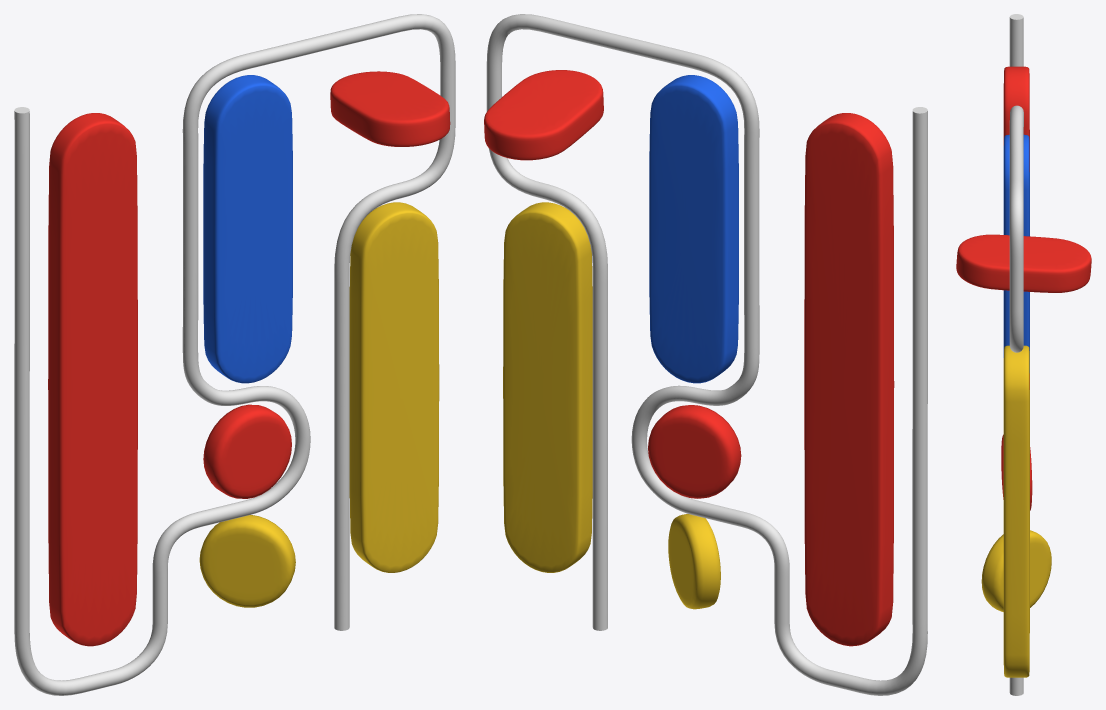
3 views of the same model, side by side, from view 1: azimuth 30°, elevation 25°; view 2: azimuth 150°, elevation 25°; view 3: azimuth 270°, elevation 25° (orthographic). The views are drawn at different scales.
Visible parts, largest first — view 1: Cube.012, BezierCurve.001, Cube.014, Cube.013, Cube.015, Cylinder.006, Cylinder.005; view 2: Cube.012, BezierCurve.001, Cube.014, Cube.013, Cube.015, Cylinder.005, Cylinder.006; view 3: Cube.014, Cube.015, BezierCurve.001, Cylinder.006, Cube.013, Cube.012, Cylinder.005.
Boxes of the visible parts, x1,y1,x2,y2 form: Cube.012: (48, 113, 137, 646); BezierCurve.001: (14, 14, 455, 695); Cube.014: (349, 202, 439, 572); Cube.013: (203, 75, 292, 383); Cube.015: (330, 71, 450, 146); Cylinder.006: (199, 515, 295, 607); Cylinder.005: (203, 404, 291, 498); Cube.012: (804, 113, 894, 646); BezierCurve.001: (486, 14, 927, 695); Cube.014: (503, 202, 592, 572); Cube.013: (649, 75, 738, 383); Cube.015: (484, 70, 603, 160); Cylinder.005: (648, 405, 741, 498); Cylinder.006: (668, 514, 720, 609); Cube.014: (1003, 345, 1029, 677); Cube.015: (956, 234, 1091, 292); BezierCurve.001: (1009, 14, 1023, 695); Cylinder.006: (981, 530, 1051, 611); Cube.013: (1003, 134, 1029, 372); Cube.012: (1003, 66, 1029, 389); Cylinder.005: (1001, 434, 1032, 510).
Size of the model in its own units: 0.8652 by 1.12 by 0.2566.
